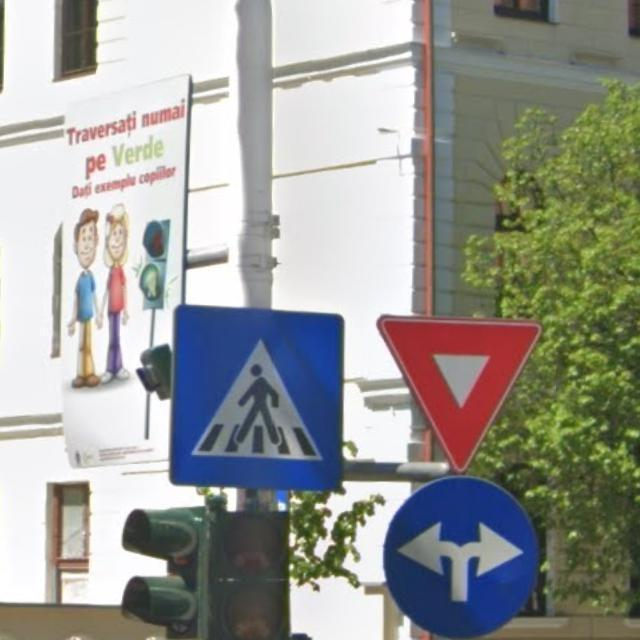info_crosswalk: (166, 298, 347, 491)
prio_give_way: (378, 314, 540, 472)
